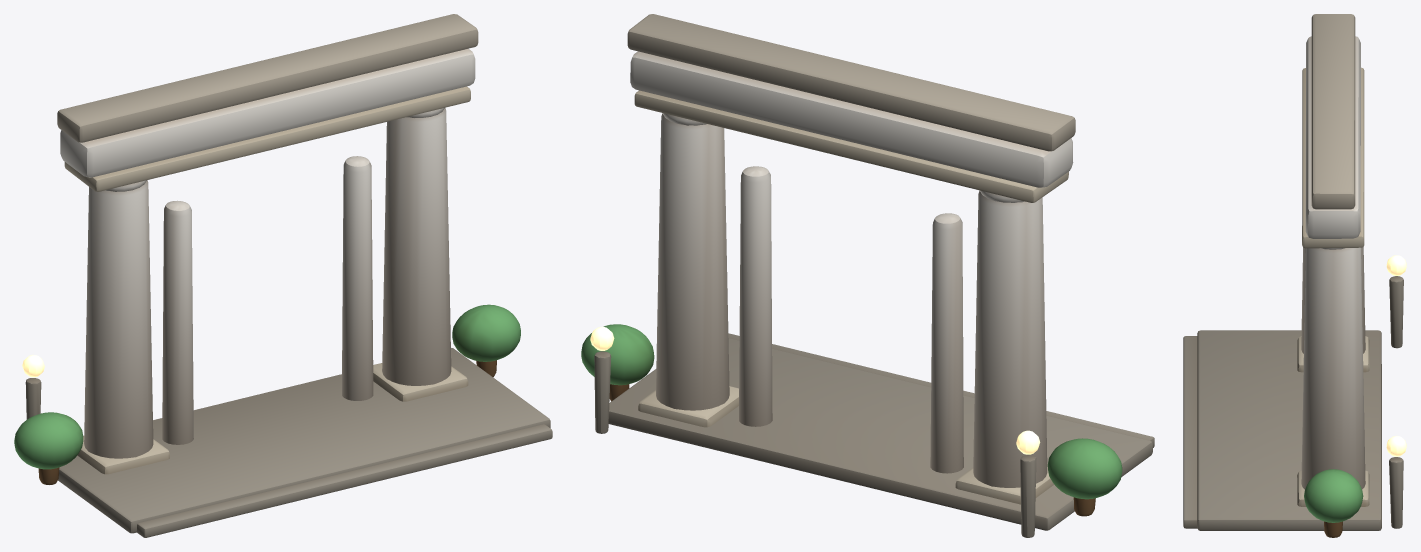
3 views of the same model, side by side, from view 1: azimuth 30°, elevation 25°; view 2: azimuth 150°, elevation 25°; view 3: azimuth 270°, elevation 25° (orthographic). The views are drawn at different scales.
Parts seen in each view (by area): view 1: gate_f8372a58; view 2: gate_f8372a58; view 3: gate_f8372a58.
Boxes of the visible parts, box(x1,y1,x2,y2) form: gate_f8372a58: box(14, 14, 552, 537); gate_f8372a58: box(581, 14, 1154, 537); gate_f8372a58: box(1183, 14, 1406, 537).
Bounding box in the file's own units: 6.08 × 4.21 × 2.54.
